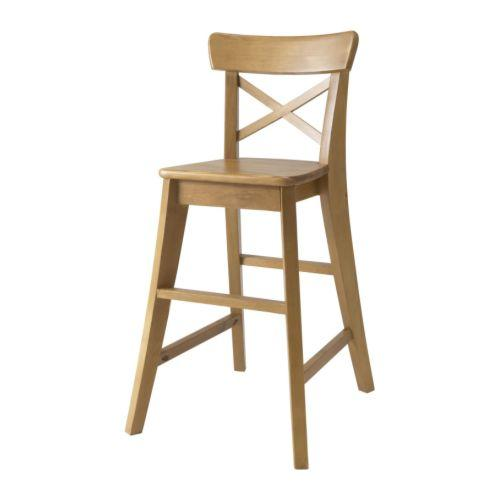chair: (121, 26, 376, 472)
